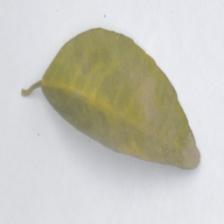greening: (43, 24, 144, 148)
